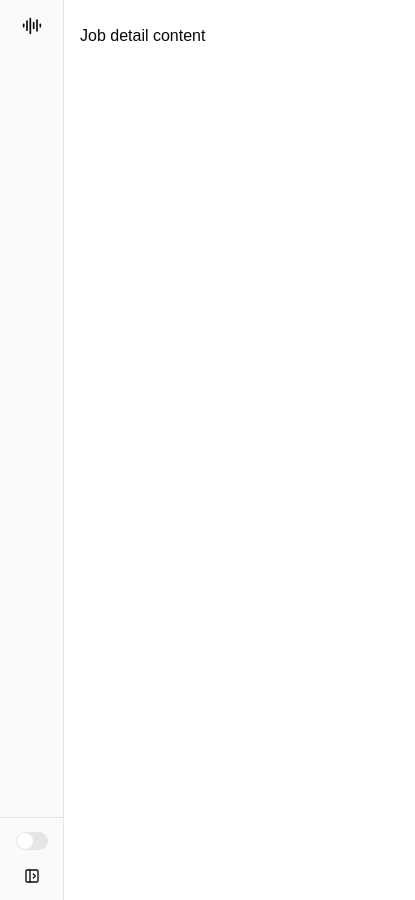
Sidebar route-driven collapse › lets the user manually expand the collapsed rail on a Job Detail route
Click the button named "展開側邊欄".
click(32, 876)  # box [8,860,55,892]
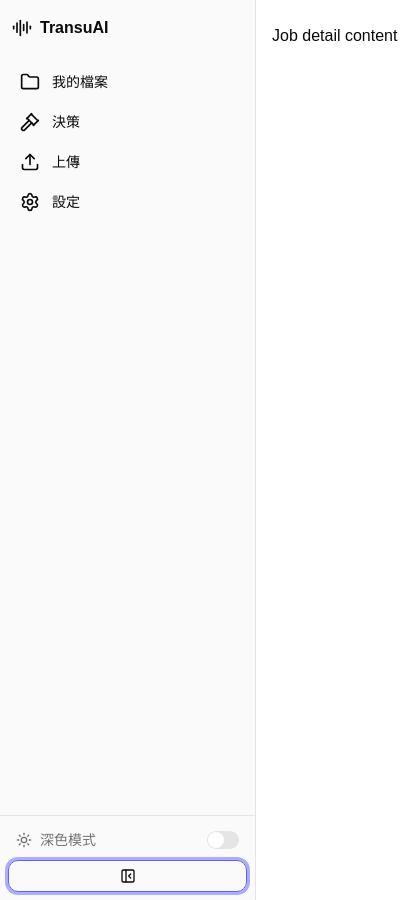
Check: the text "我的檔案" is shown, box [52,72,108,92]
Check: the text "上傳" is shown, box [52,152,80,172]
